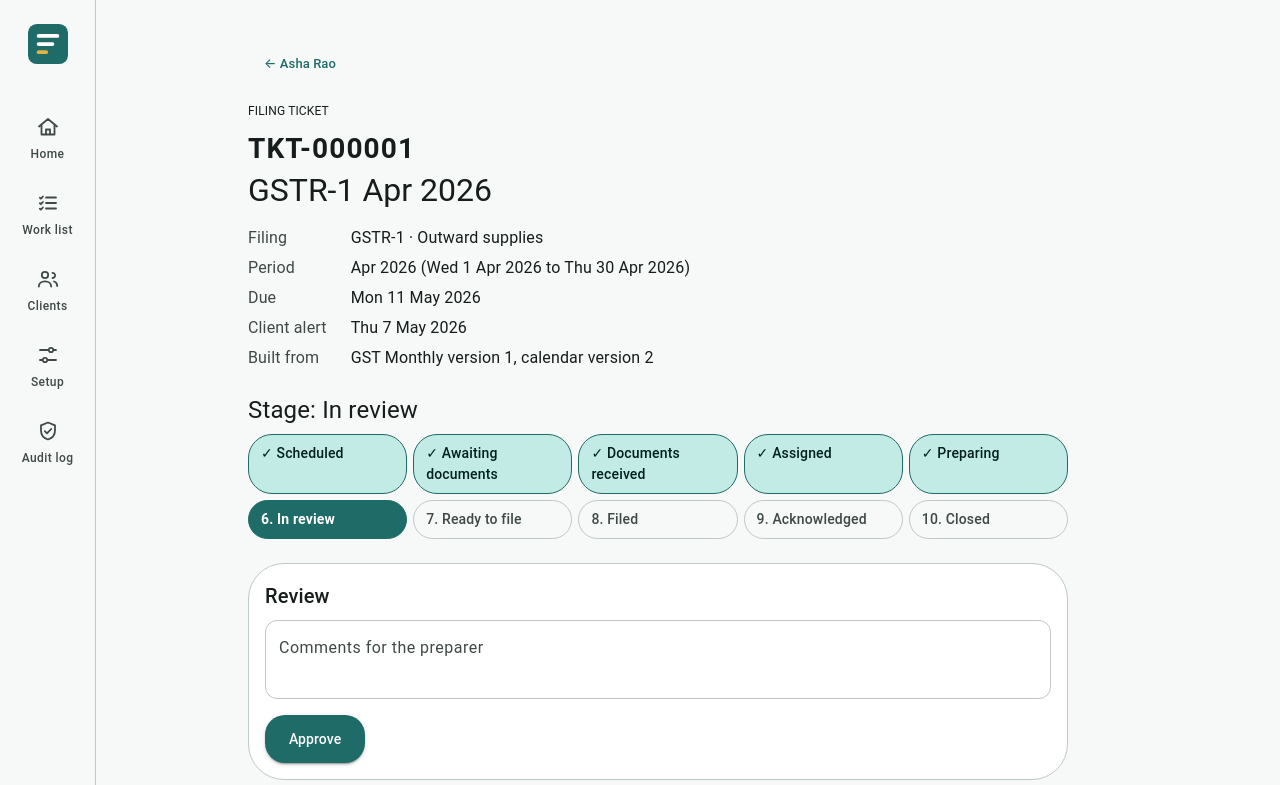
it: Ticket page › approves with an optional comment
This screenshot has width=1280, height=785.
Type "Looks right" into the text box labelled "Comments for the preparer" at (658, 659), box [279, 636, 1037, 682]
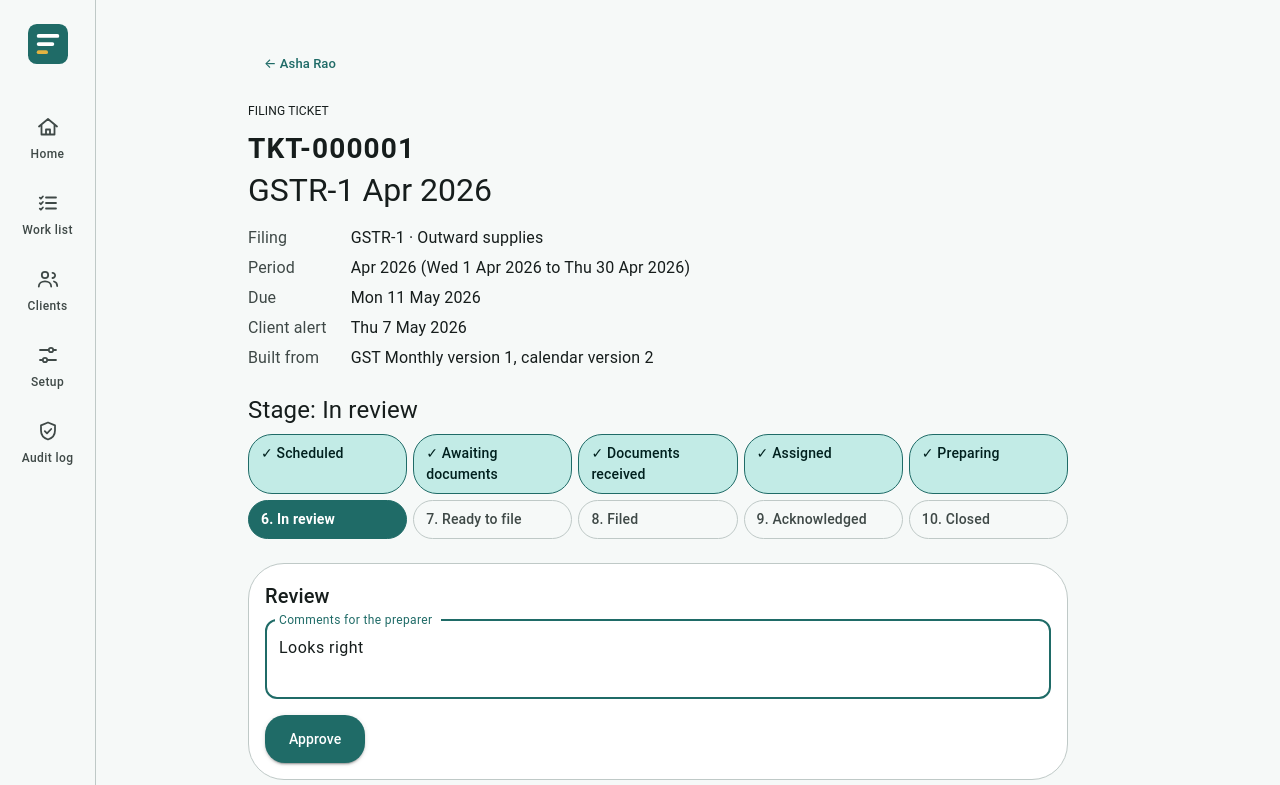
Click the button "Approve" at (315, 739), box [265, 715, 365, 763]
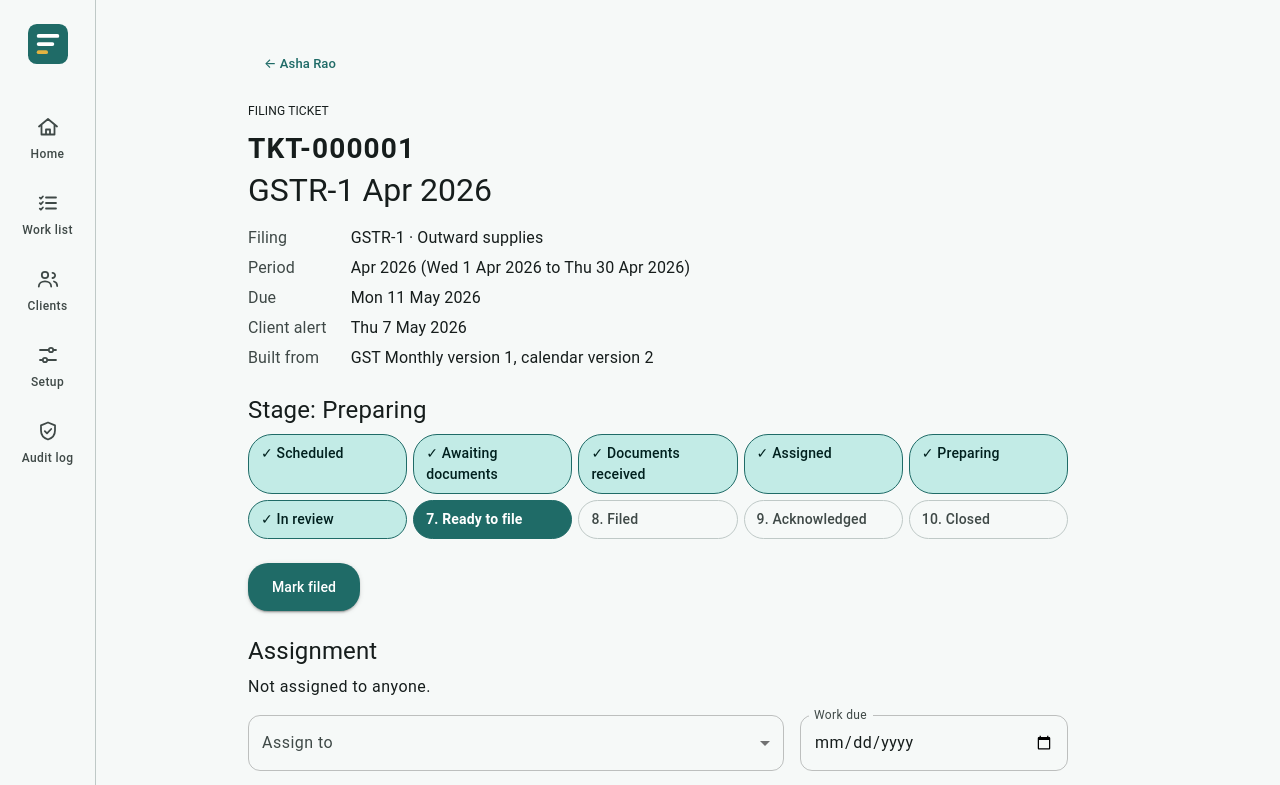
Expected: the button "Mark filed" is shown, [248, 563, 360, 611]
